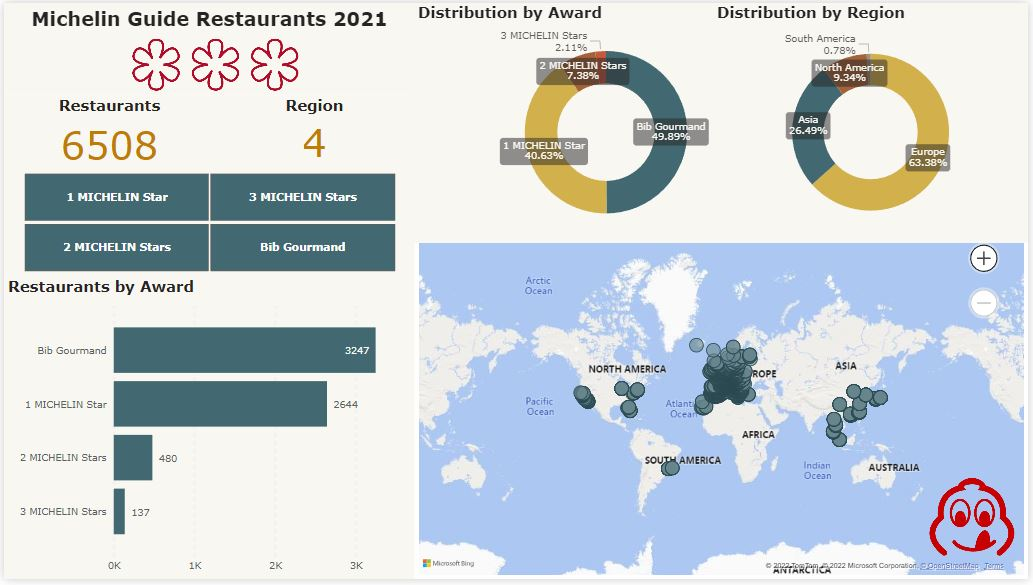

Layout of this report page (visuals, bound fields, positions):
{"tool":"powerbi","page":{"name":"Michelin","canvas":[1280,720],"ordinal":0},"visuals":[{"type":"barChart","title":"Restaurants by Award","fields":{"Category":["michelin_my_maps.Award"],"Y":["CountNonNull(michelin_my_maps.Name)"]},"box":[0,342.5,512.5,377.5],"z":0},{"type":"map","fields":{"Y":["michelin_my_maps.Latitude"],"X":["michelin_my_maps.Longitude"]},"box":[513.8,290,766.2,430],"z":1000},{"type":"card","title":"Restaurants","fields":{"Values":["CountNonNull(michelin_my_maps.Name)"]},"box":[0,116.2,263.8,96.2],"z":2000},{"type":"slicer","fields":{"Values":["michelin_my_maps.Award"]},"box":[0,206.2,512.5,136.2],"z":3000},{"type":"donutChart","title":"Distribution by Award","fields":{"Category":["michelin_my_maps.Award"],"Y":["CountNonNull(michelin_my_maps.Name)"]},"box":[512.5,0,480,300],"z":4000},{"type":"donutChart","title":"Distribution by Region","fields":{"Category":["michelin_my_maps.Mainland"],"Y":["CountNonNull(michelin_my_maps.Name)"]},"box":[886.2,0,393.8,300],"z":5000},{"type":"card","title":"Region","fields":{"Values":["Count(michelin_my_maps.Mainland)"]},"box":[263.8,116.2,248.8,90],"z":6000},{"type":"textbox","box":[0,0,513.8,116.2],"z":7000},{"type":"image","box":[152.5,22.5,222.5,108.8],"z":8000},{"type":"image","box":[1150,583.8,117.5,117.5],"z":9000},{"type":"bookmarkNavigator","box":[0,0,600,50],"z":10000}]}

Visuals, with their boxes in screenshot pixels (x1, y1, x2, y2), scaled from the page's 1280x720 canvas onto the 1033x585 screenshot:
"Restaurants by Award" barChart: locate(0, 278, 414, 584)
map - michelin_my_maps.Latitude x michelin_my_maps.Longitude: locate(415, 236, 1032, 584)
"Restaurants" card: locate(0, 94, 213, 173)
slicer - michelin_my_maps.Award: locate(0, 168, 414, 278)
"Distribution by Award" donutChart: locate(414, 0, 801, 244)
"Distribution by Region" donutChart: locate(715, 0, 1032, 244)
"Region" card: locate(213, 94, 414, 168)
textbox: locate(0, 0, 415, 94)
image: locate(123, 18, 303, 107)
image: locate(928, 474, 1023, 570)
bookmarkNavigator: locate(0, 0, 484, 41)
